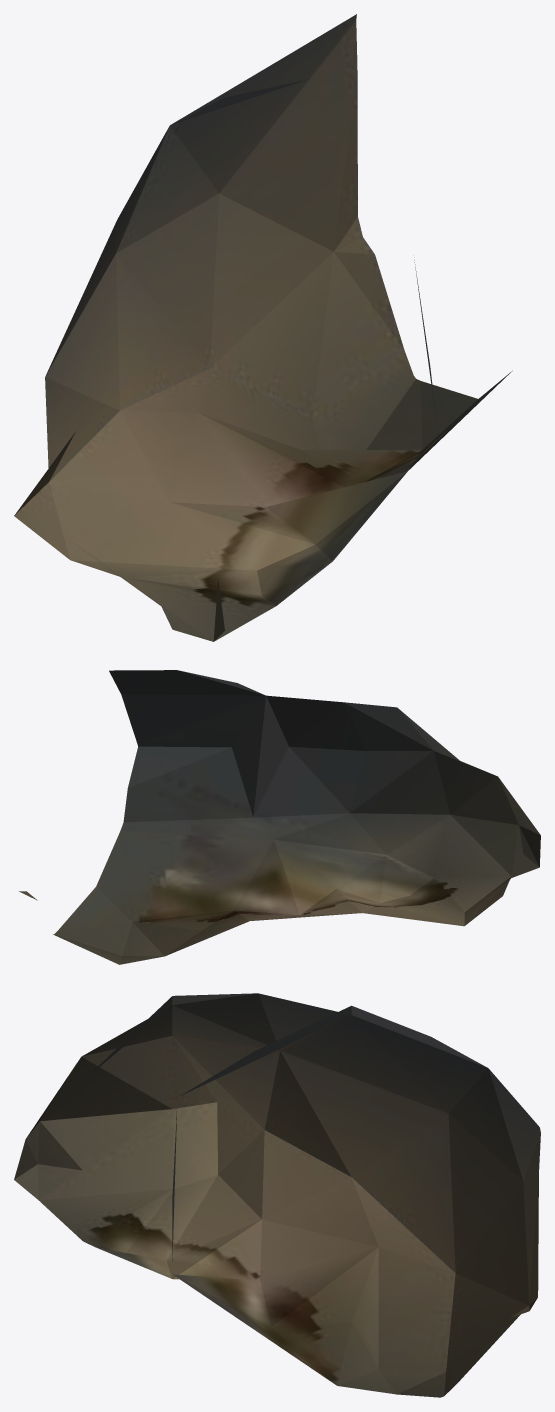
The picture shows the model from 3 angles, top to bottom: view 1: azimuth 30°, elevation 25°; view 2: azimuth 150°, elevation 25°; view 3: azimuth 270°, elevation 25°; orthographic projection. The views are drawn at different scales.
Bounding box in the file's own units: 0.4993 × 0.3265 × 0.5066.
2 materials, 2 textured.
